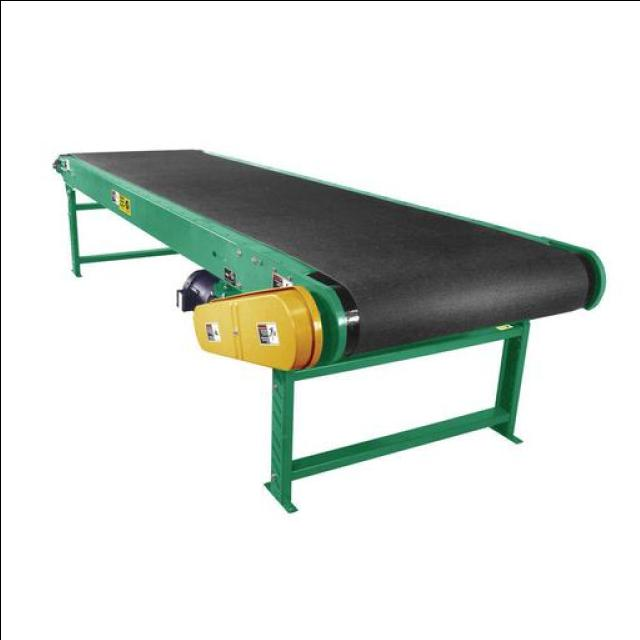conveyor: (51, 145, 590, 354)
